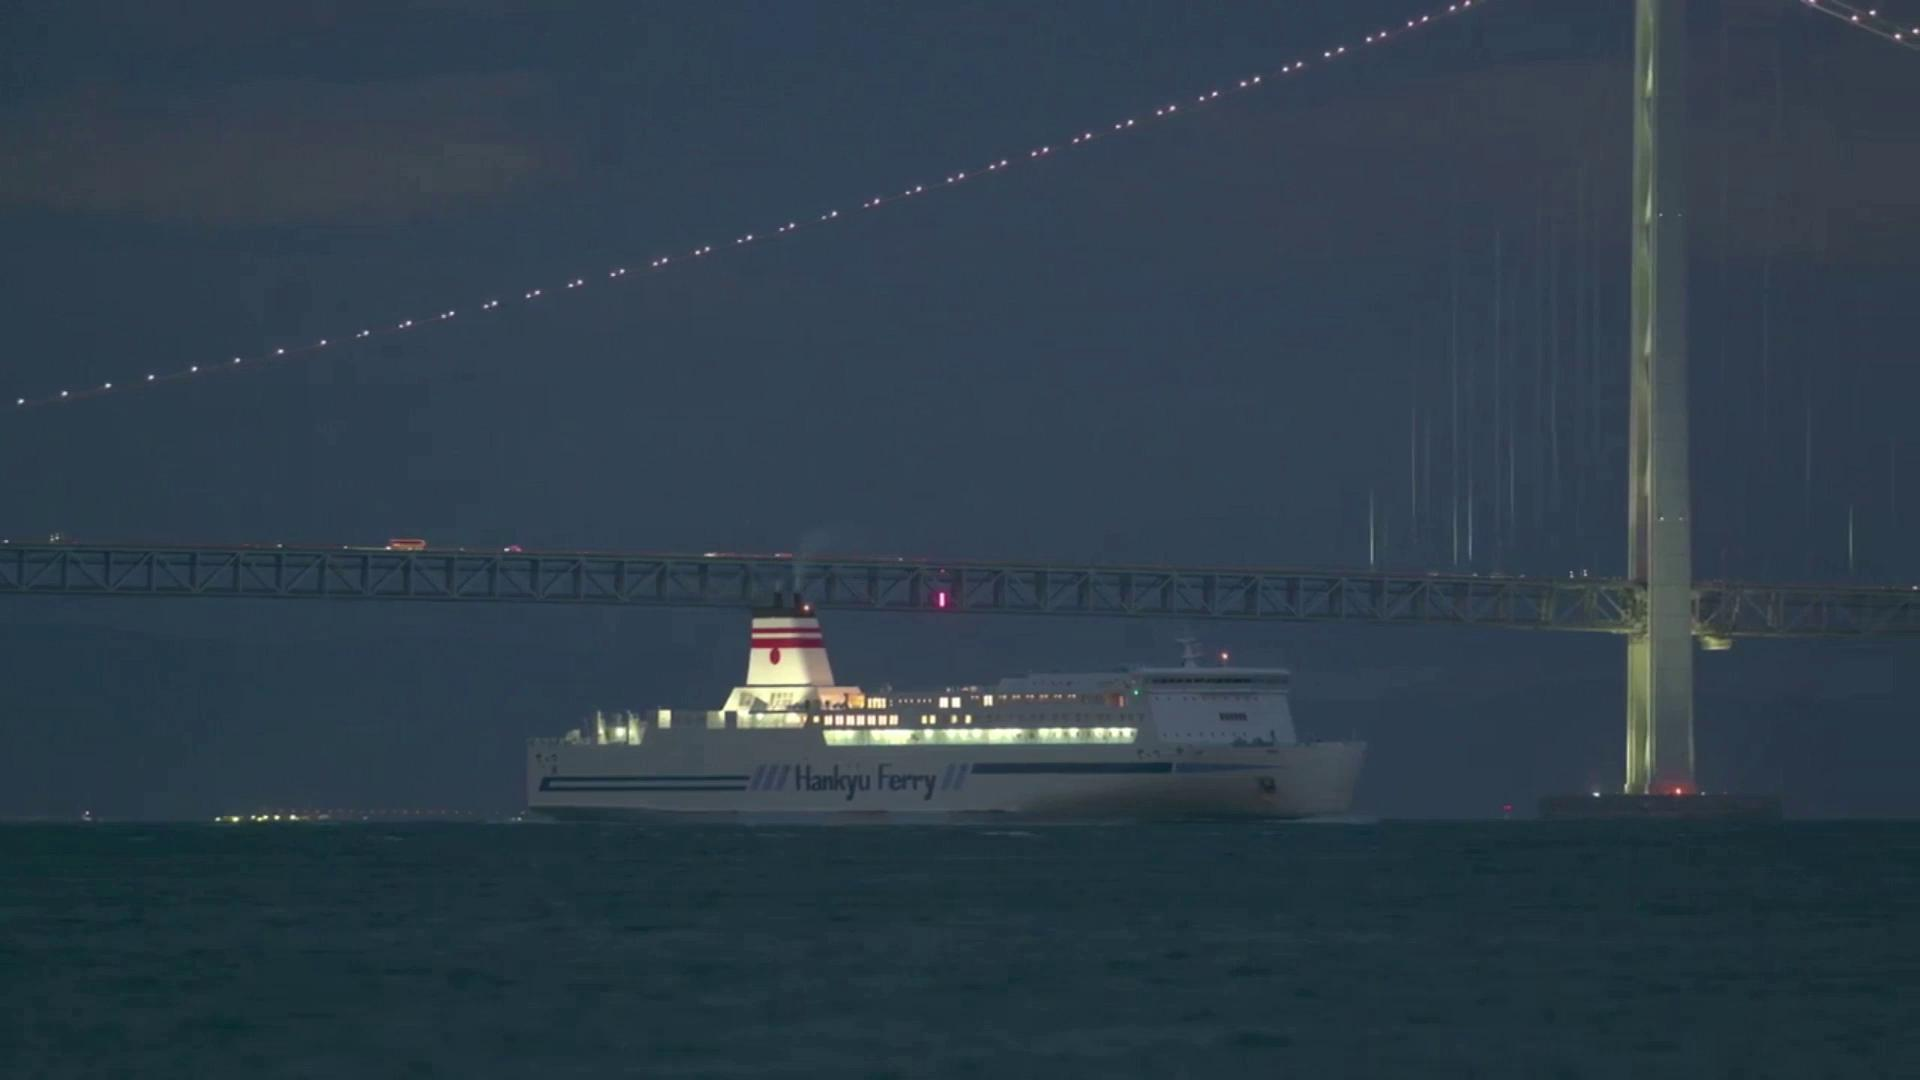OCR: (789, 746, 948, 807)
